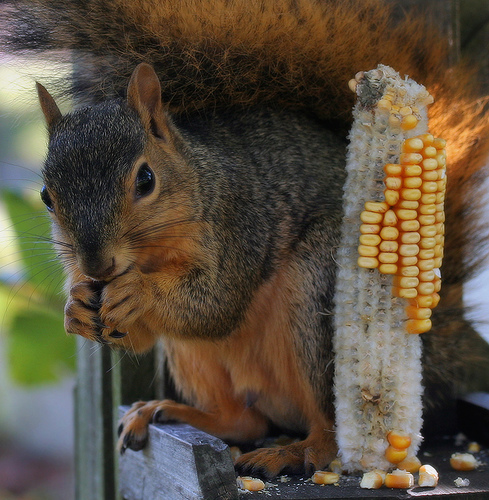corn: (331, 65, 443, 491)
